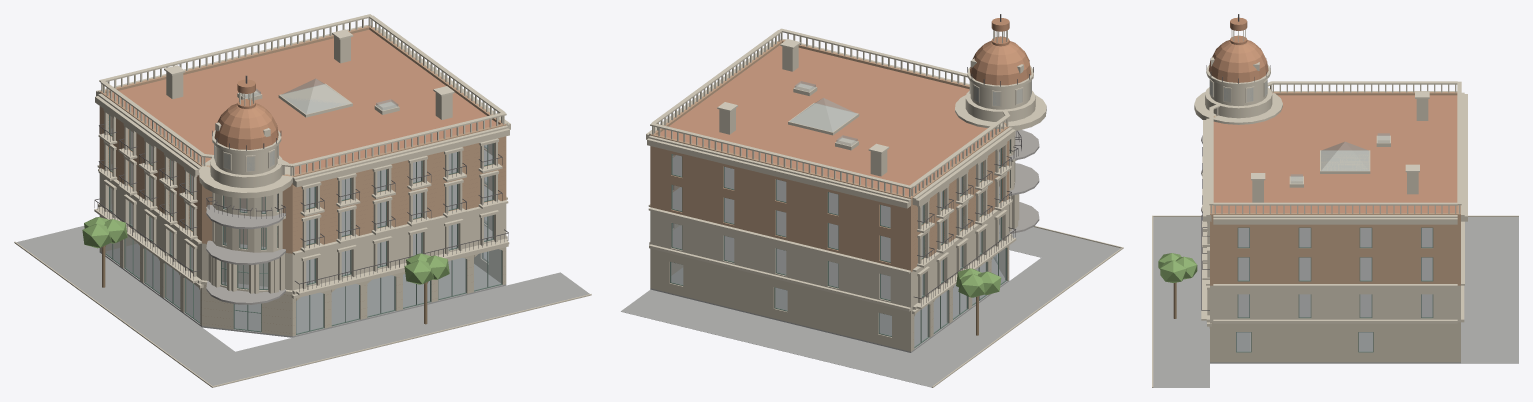
File: clay-chamfer-corner-dome-block-clay-v002.glb
3 renders of one model, left to right at view 1: azimuth 30°, elevation 25°; view 2: azimuth 150°, elevation 25°; view 3: azimuth 270°, elevation 25°, orthographic. The views are drawn at different scales.
Visible parts, largest first — view 1: CLAY_STONE, CLAY_FOUNDATION, CLAY_MEMBRANE, CLAY_GLASS, CLAY_WALL, CLAY_FLOOR, CLAY_RUSTIC, CLAY_TRIM, CLAY_PALE, CLAY_HARDWARE, CLAY_COPPER, CLAY_PLANTING; view 2: CLAY_STONE, CLAY_MEMBRANE, CLAY_FOUNDATION, CLAY_WALL, CLAY_RUSTIC, CLAY_GLASS, CLAY_FLOOR, CLAY_PALE, CLAY_COPPER, CLAY_TRIM, CLAY_HARDWARE, CLAY_PLANTING; view 3: CLAY_MEMBRANE, CLAY_STONE, CLAY_FOUNDATION, CLAY_WALL, CLAY_RUSTIC, CLAY_GLASS, CLAY_FLOOR, CLAY_COPPER, CLAY_PALE, CLAY_TRIM, CLAY_PLANTING.
Boxes of the visible parts, left/top/right/bottom form: CLAY_STONE: left=14, top=14, right=591, bottom=387; CLAY_FOUNDATION: left=15, top=226, right=589, bottom=387; CLAY_MEMBRANE: left=108, top=29, right=498, bottom=174; CLAY_GLASS: left=105, top=78, right=501, bottom=333; CLAY_WALL: left=99, top=25, right=506, bottom=253; CLAY_FLOOR: left=111, top=128, right=492, bottom=304; CLAY_RUSTIC: left=99, top=215, right=506, bottom=336; CLAY_TRIM: left=105, top=115, right=502, bottom=334; CLAY_PALE: left=101, top=18, right=504, bottom=175; CLAY_HARDWARE: left=94, top=75, right=508, bottom=291; CLAY_COPPER: left=214, top=79, right=278, bottom=149; CLAY_PLANTING: left=82, top=217, right=449, bottom=284; CLAY_STONE: left=646, top=28, right=1123, bottom=387; CLAY_MEMBRANE: left=658, top=45, right=1001, bottom=195; CLAY_FOUNDATION: left=621, top=227, right=1120, bottom=387; CLAY_WALL: left=650, top=39, right=1009, bottom=271; CLAY_RUSTIC: left=650, top=245, right=1009, bottom=351; CLAY_GLASS: left=671, top=80, right=1031, bottom=346; CLAY_FLOOR: left=672, top=130, right=1039, bottom=299; CLAY_PALE: left=652, top=30, right=1031, bottom=197; CLAY_COPPER: left=970, top=18, right=1031, bottom=85; CLAY_TRIM: left=670, top=139, right=1010, bottom=348; CLAY_HARDWARE: left=914, top=14, right=1033, bottom=306; CLAY_PLANTING: left=956, top=268, right=1001, bottom=297; CLAY_MEMBRANE: left=1213, top=95, right=1457, bottom=212; CLAY_STONE: left=1152, top=65, right=1518, bottom=387; CLAY_FOUNDATION: left=1153, top=217, right=1518, bottom=387; CLAY_WALL: left=1210, top=92, right=1460, bottom=285; CLAY_RUSTIC: left=1209, top=322, right=1460, bottom=362; CLAY_GLASS: left=1209, top=80, right=1432, bottom=351; CLAY_FLOOR: left=1201, top=135, right=1432, bottom=317; CLAY_COPPER: left=1208, top=17, right=1268, bottom=82; CLAY_PALE: left=1209, top=29, right=1460, bottom=213; CLAY_TRIM: left=1236, top=227, right=1433, bottom=352; CLAY_PLANTING: left=1158, top=253, right=1197, bottom=282.
Size of the model in its own units: 42 by 27.3 by 38.
